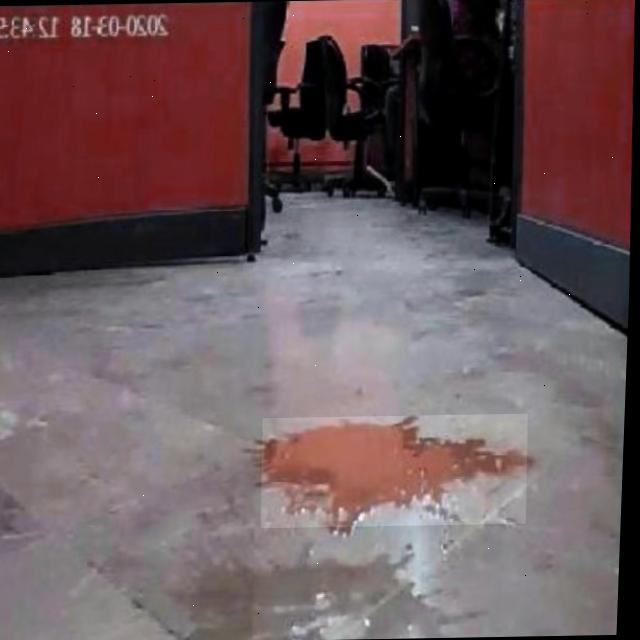spillage: (265, 416, 529, 526)
